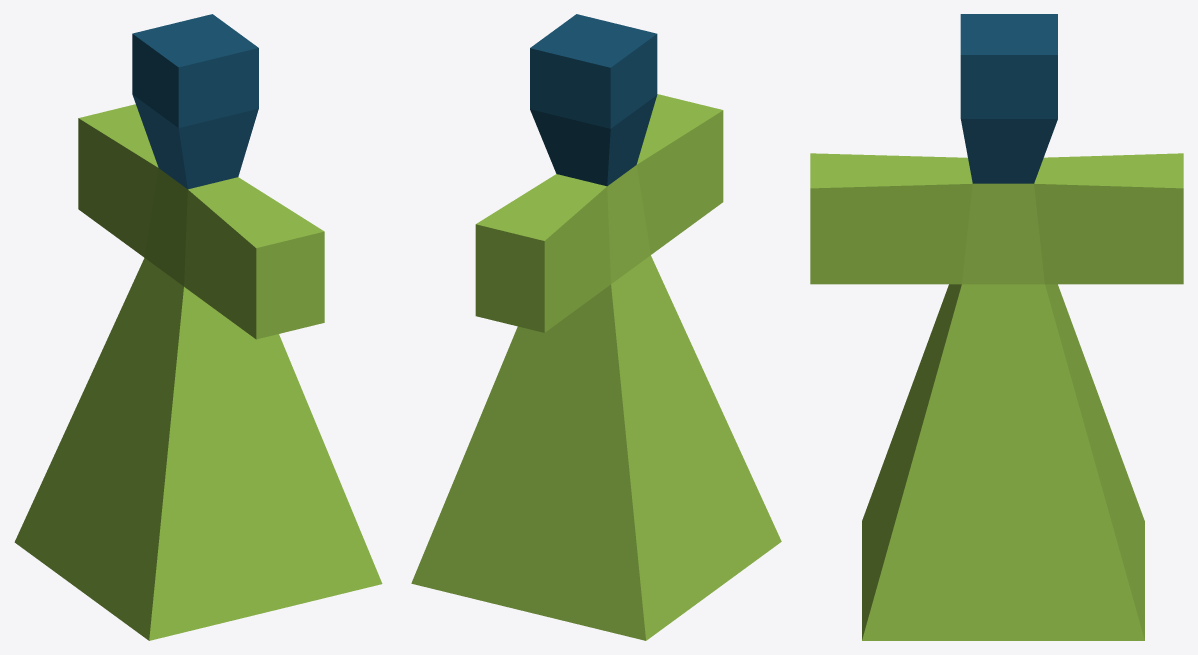
File: simpleMesh-4.glb
3 renders of one model, left to right at view 1: azimuth 30°, elevation 25°; view 2: azimuth 150°, elevation 25°; view 3: azimuth 270°, elevation 25°, orthographic. The views are drawn at different scales.
Visible parts, largest first — view 1: Cube; view 2: Cube; view 3: Cube.
Part boxes in pixels (left/top/right/bottom): Cube: left=14, top=14, right=382, bottom=640; Cube: left=411, top=14, right=781, bottom=640; Cube: left=810, top=14, right=1183, bottom=640.
Size of the model in its own units: 2 by 4.26 by 2.64.
Materials: 1 (1 with a texture image).
